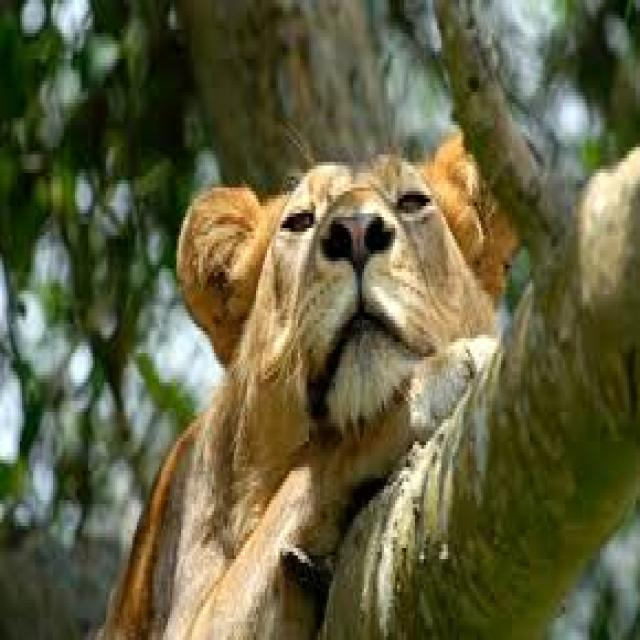Lion: (94, 135, 524, 636)
